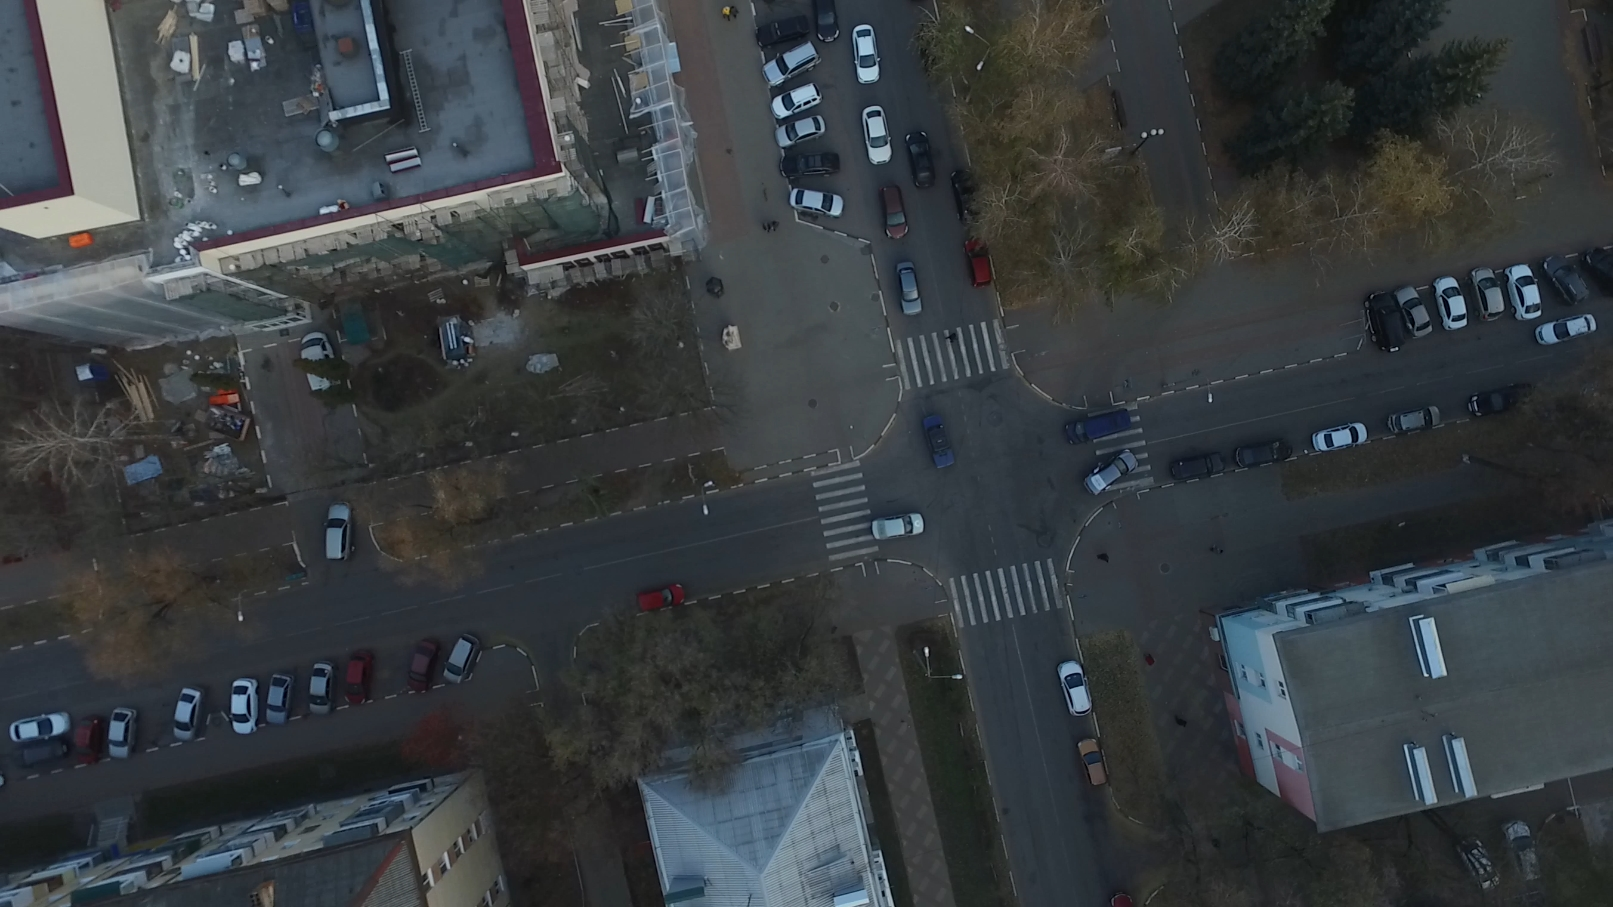car: (1504, 823, 1547, 889), (1456, 839, 1506, 893), (222, 676, 261, 740), (1083, 449, 1136, 497), (1542, 252, 1591, 305), (1054, 658, 1093, 721), (1062, 408, 1130, 444), (320, 501, 359, 564), (1466, 382, 1534, 418), (1365, 291, 1403, 354), (787, 181, 844, 221), (439, 632, 481, 686), (758, 45, 819, 82), (8, 708, 71, 742), (775, 148, 838, 183), (1394, 284, 1432, 338), (100, 707, 138, 760), (857, 107, 892, 167), (169, 689, 207, 743), (401, 641, 439, 695), (1435, 275, 1470, 332), (849, 22, 881, 84), (1506, 261, 1540, 319), (338, 650, 373, 705), (766, 83, 820, 118), (1471, 265, 1503, 324), (1535, 316, 1600, 346), (65, 714, 102, 765), (875, 183, 907, 240), (259, 676, 295, 726), (773, 113, 828, 145), (305, 659, 336, 714), (1168, 449, 1223, 480), (1236, 437, 1292, 468), (1309, 423, 1371, 451), (924, 415, 954, 472), (894, 259, 924, 316), (759, 16, 813, 47), (907, 132, 936, 189), (635, 583, 688, 612), (869, 512, 924, 539), (1385, 405, 1440, 433), (966, 233, 993, 289), (1076, 736, 1106, 785), (955, 171, 980, 226), (811, 1, 838, 48)
